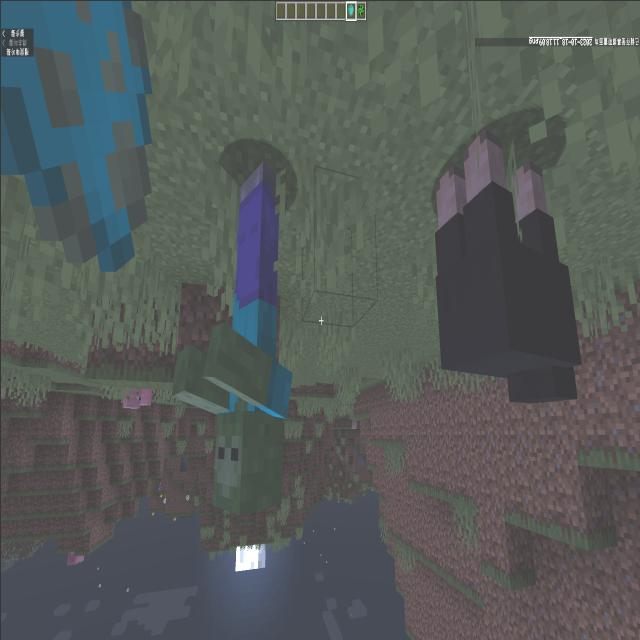Zombie: (168, 160, 295, 520)
pig: (114, 358, 156, 418), (61, 540, 88, 570)
